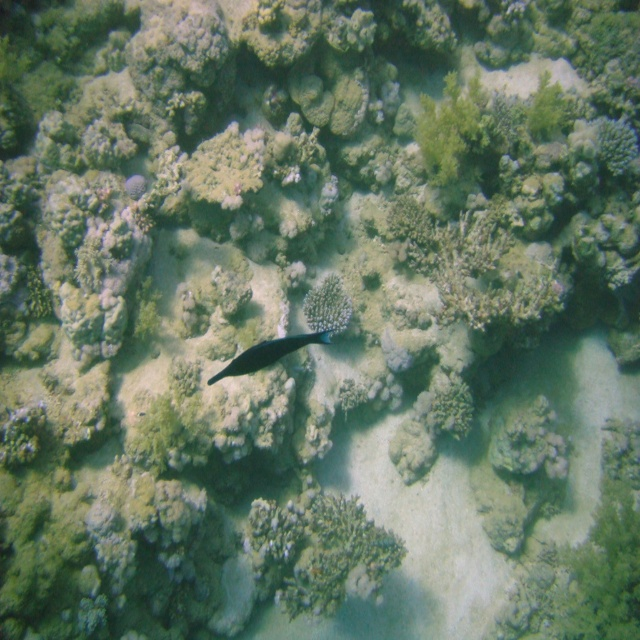Fish: (217, 292, 355, 416)
